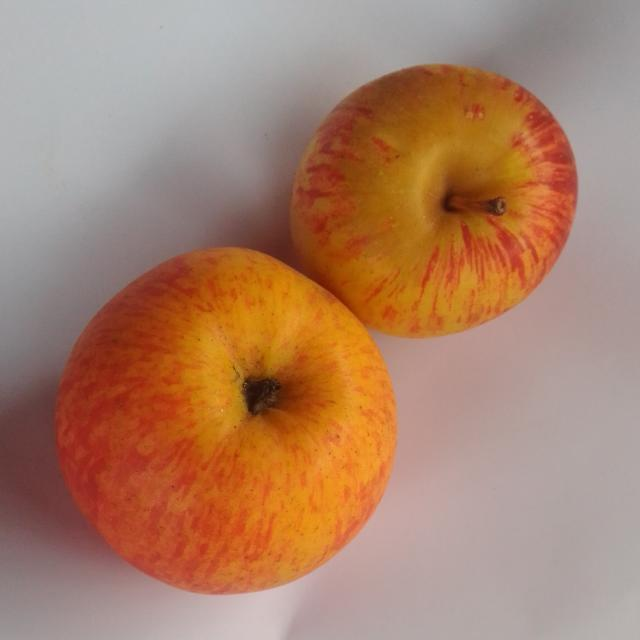Fresh Apple: (52, 238, 398, 600), (290, 55, 578, 338)
